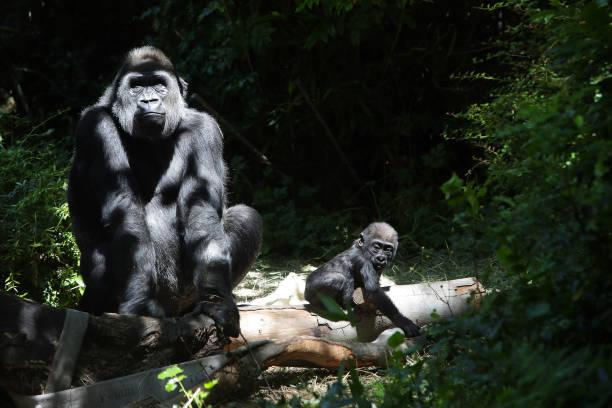gorille_Autres: (70, 35, 262, 377), (306, 203, 418, 331)
